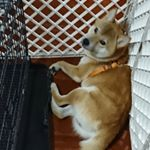puppy: (46, 6, 133, 150)
